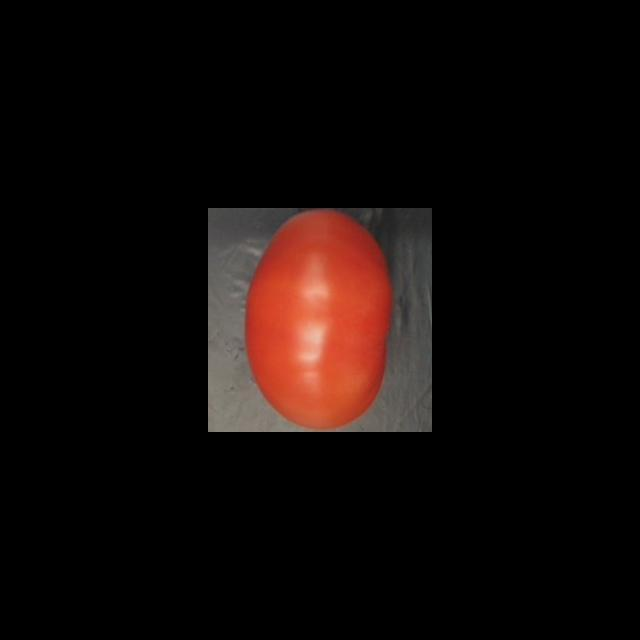tomato: (238, 209, 399, 432)
